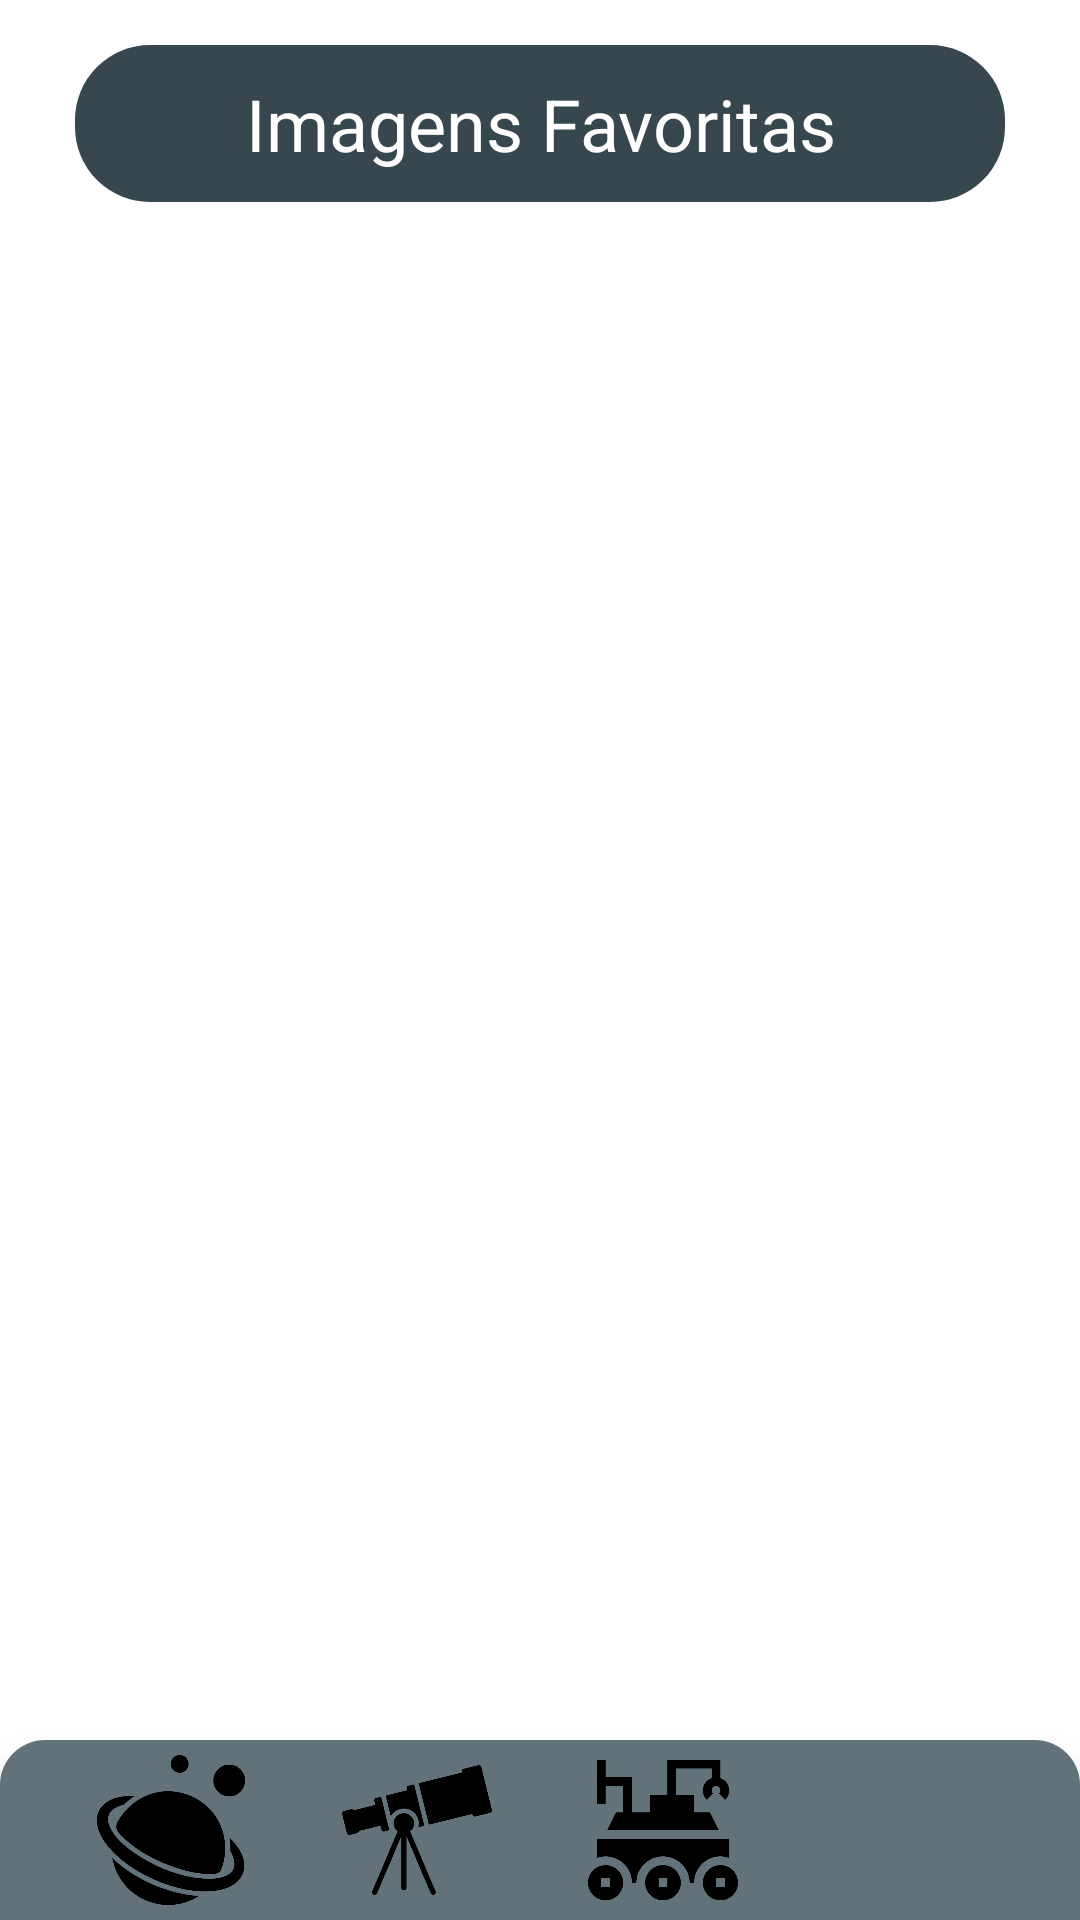

Where icons sit on this 1080 × 1920 app screen, as BBox(x1, y1, x2, y2):
planetas: BBox(97, 1755, 245, 1905)
rovers: BBox(588, 1760, 738, 1900)
telescope: BBox(342, 1765, 492, 1895)
